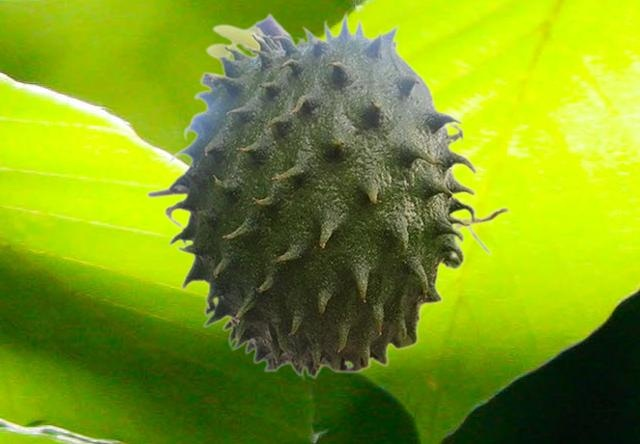guyabano: (145, 9, 510, 379)
